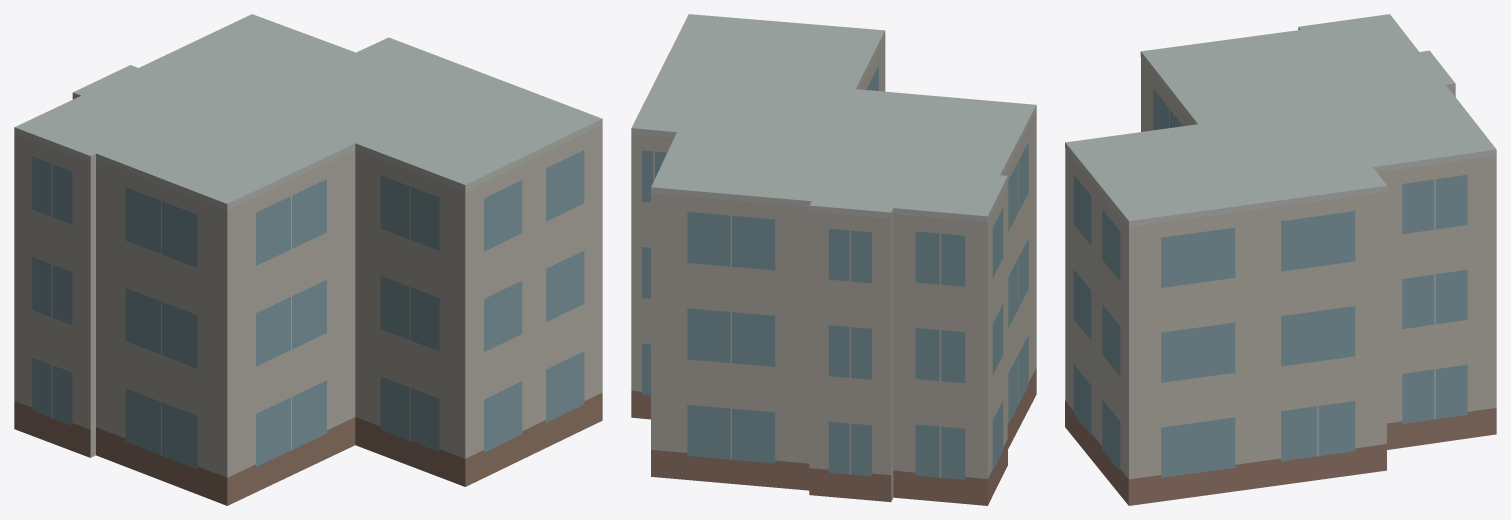
The model's file is survey-upis-32470357.glb.
The picture shows the model from 3 angles, left to right: view 1: azimuth 30°, elevation 25°; view 2: azimuth 150°, elevation 25°; view 3: azimuth 270°, elevation 25°; orthographic projection. The views are drawn at different scales.
Visible parts, largest first — view 1: survey-upis-32470357.tmp; view 2: survey-upis-32470357.tmp; view 3: survey-upis-32470357.tmp.
Part boxes in pixels (<box>): survey-upis-32470357.tmp: <box>14,14,602,505</box>; survey-upis-32470357.tmp: <box>631,14,1036,505</box>; survey-upis-32470357.tmp: <box>1065,14,1496,505</box>.
Bounding box in the file's own units: 17.98 × 11.52 × 15.83.
